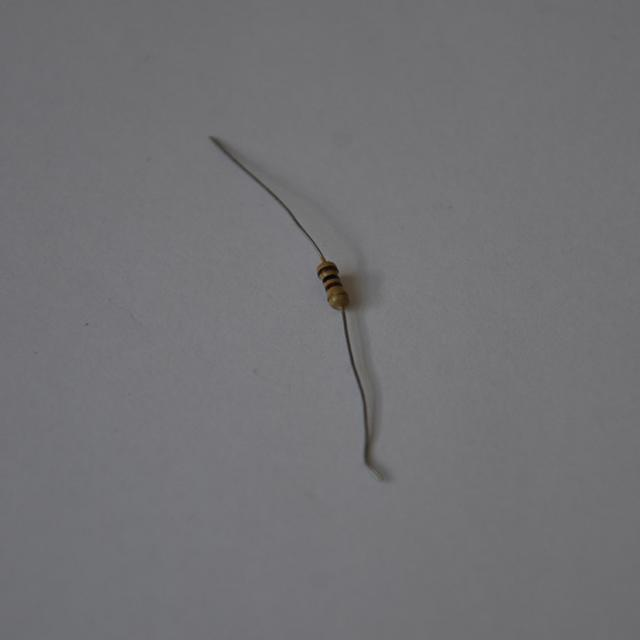black: (321, 272, 337, 281)
brown: (317, 264, 336, 275), (325, 281, 340, 290)
gold: (327, 292, 347, 301)
resistor: (304, 252, 359, 318)
